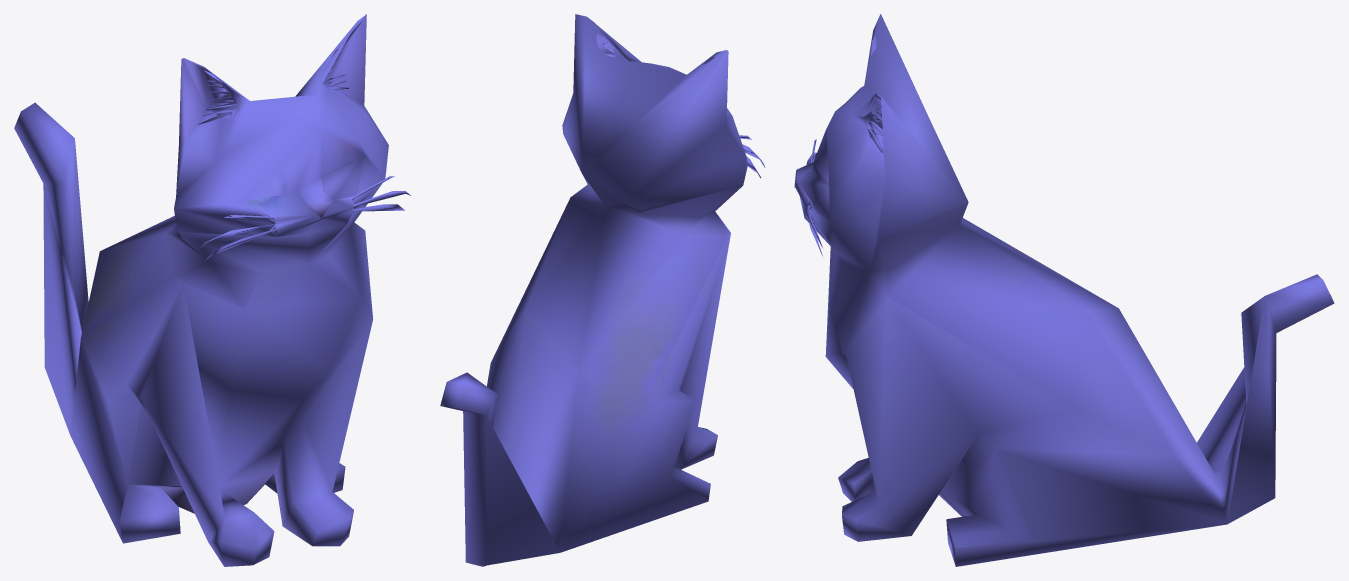
Rendered from model.progressive.glb.
3 views of the same model, side by side, from view 1: azimuth 30°, elevation 25°; view 2: azimuth 150°, elevation 25°; view 3: azimuth 270°, elevation 25° (orthographic). The views are drawn at different scales.
Visible parts, largest first — view 1: texture_pbr_20250901; view 2: texture_pbr_20250901; view 3: texture_pbr_20250901.
Part boxes in pixels (x1=…): texture_pbr_20250901: x1=14, y1=14, x2=410, y2=566; texture_pbr_20250901: x1=440, y1=14, x2=765, y2=566; texture_pbr_20250901: x1=794, y1=14, x2=1334, y2=566.
Size of the model in its own units: 0.8457 by 1.8 by 1.89.
1 material, 1 textured.
